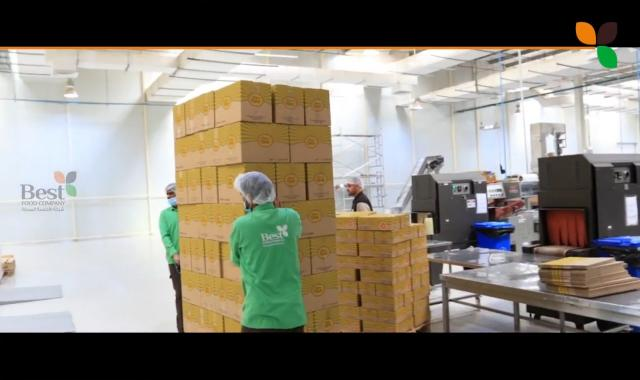hairnet: (236, 171, 277, 204), (342, 173, 362, 188), (162, 181, 177, 192)
